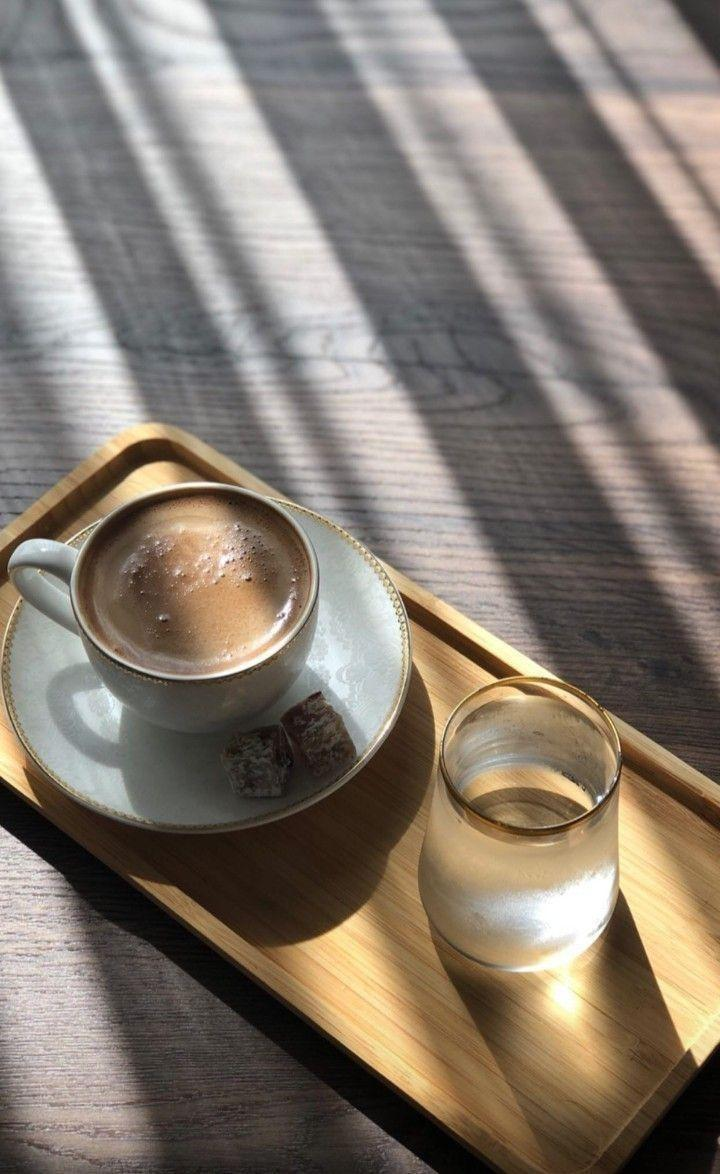cup-handle: (6, 481, 321, 735)
glass-normal: (417, 676, 623, 971)
